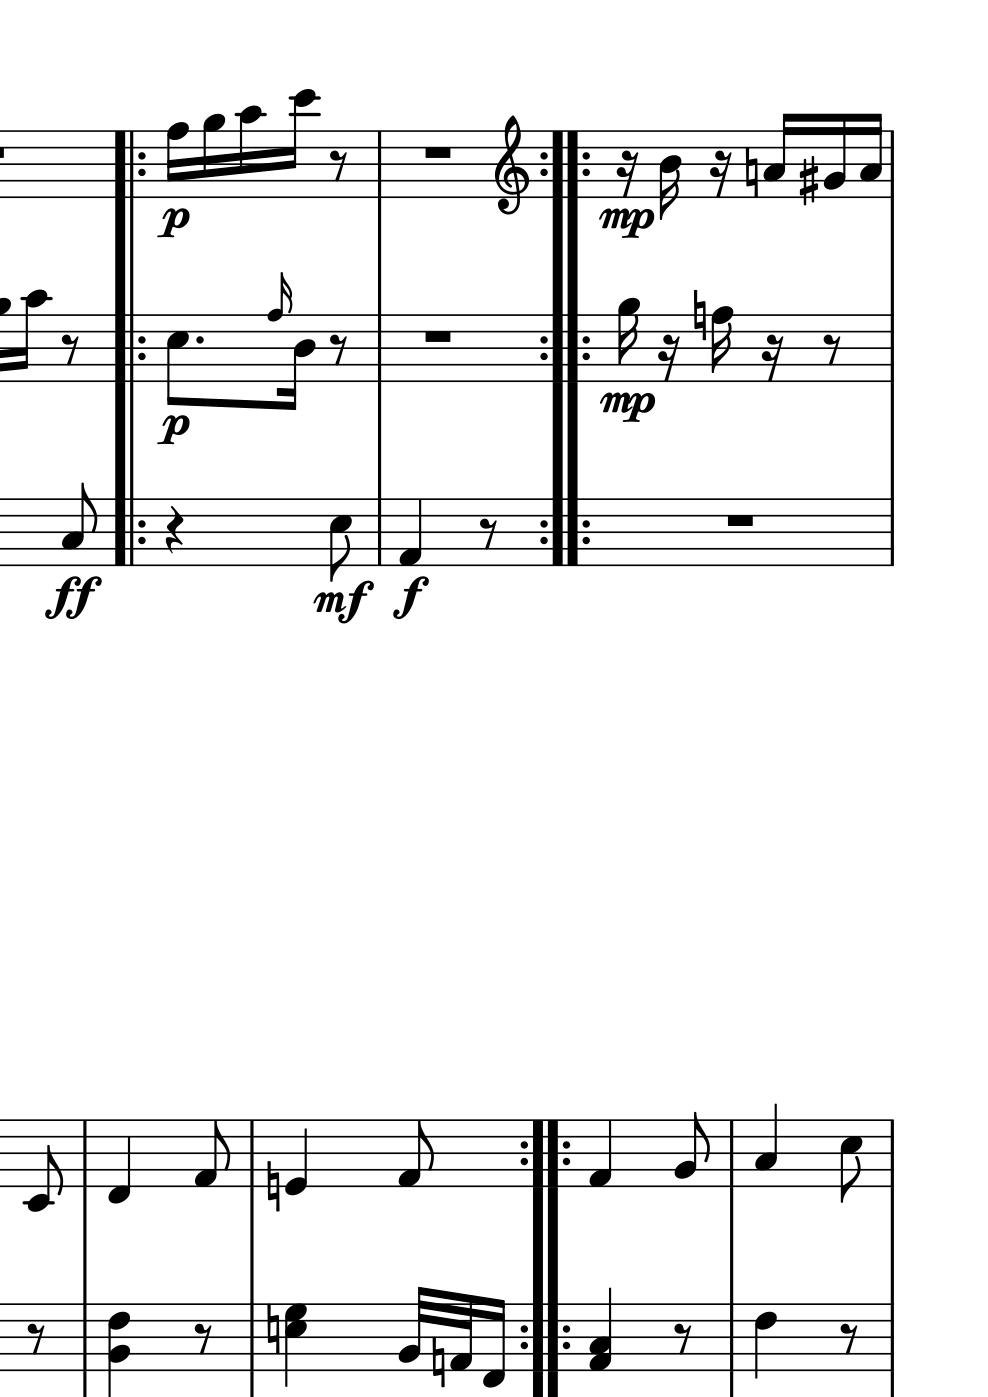16_-1: (480, 1295, 507, 1390)
16_10: (16, 288, 49, 384), (236, 103, 264, 200)
16_12: (281, 88, 317, 201)
16_2: (822, 111, 847, 199)
16_3: (761, 111, 794, 199), (858, 112, 883, 199)
16_4: (278, 312, 315, 413), (657, 129, 683, 220)
16_8: (163, 121, 188, 197), (711, 305, 734, 384)
16_9: (200, 113, 226, 199), (614, 296, 639, 381)
32_1: (449, 1293, 474, 1373)
32_2: (395, 1285, 429, 1373)
4_-1: (105, 1118, 132, 1205)
4_0: (284, 1118, 309, 1197)
4_1: (397, 497, 423, 566), (587, 1118, 613, 1190)
4_1_3: (589, 1287, 614, 1373)
4_2_6: (107, 1302, 132, 1397)
4_3: (753, 1103, 779, 1188)
4_5_7: (284, 1300, 310, 1390)
4_6: (752, 1302, 778, 1380)
8_-2: (22, 1118, 65, 1213)
8_1: (395, 1119, 435, 1190), (192, 1119, 231, 1189)
8_2: (671, 1111, 709, 1188)
8_3: (59, 480, 99, 566)
8_5: (164, 312, 189, 405), (326, 496, 353, 583), (837, 1118, 863, 1202)
Gclef: (493, 114, 530, 216)
LeftRepeatSign: (111, 498, 146, 568), (111, 314, 148, 382), (111, 130, 146, 198)
Natural: (430, 1335, 447, 1390), (742, 146, 759, 200), (691, 289, 707, 345), (264, 1304, 280, 1359), (264, 1159, 280, 1212)
Rests1: (418, 326, 456, 346), (419, 142, 456, 161), (723, 511, 757, 529)
Rests16: (614, 149, 639, 198), (708, 149, 732, 199), (657, 333, 681, 383), (759, 333, 784, 383)
Rests4: (163, 505, 184, 555)
Rests8: (837, 1320, 860, 1355), (671, 1321, 693, 1357), (477, 516, 499, 550), (327, 148, 349, 183), (60, 332, 81, 367), (327, 332, 349, 367), (25, 1321, 46, 1355), (820, 329, 840, 363), (192, 1322, 213, 1355)
RightAndLeftRepeatSign: (516, 1120, 574, 1188), (518, 1305, 574, 1371), (536, 314, 591, 382), (537, 498, 591, 566), (537, 131, 591, 198)
Sharp: (798, 155, 819, 207)
Single_barline: (242, 1120, 261, 1188), (76, 1120, 94, 1188), (722, 1120, 740, 1188), (76, 1304, 94, 1371), (370, 314, 388, 381), (882, 1304, 900, 1370), (370, 131, 388, 197), (882, 315, 900, 381), (883, 1119, 900, 1188), (244, 1303, 261, 1371), (723, 1304, 740, 1371), (883, 499, 899, 566), (371, 499, 387, 565), (884, 131, 899, 198)
dot: (192, 333, 207, 348)
f: (391, 575, 431, 620)
ff: (44, 575, 102, 624)
mf: (311, 580, 374, 626)
mp: (596, 390, 657, 426), (596, 206, 655, 240)
p: (156, 410, 191, 449), (156, 206, 191, 240)
